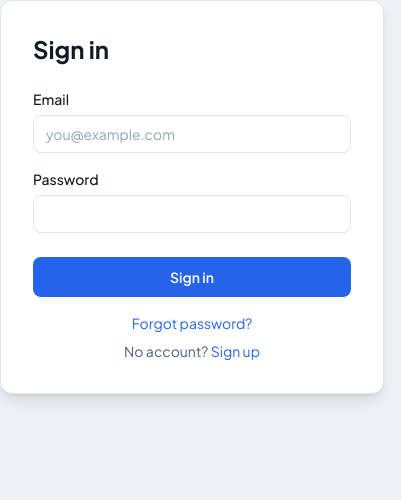
it: LoginPage — F-14-08: ACCOUNT_LOCKED error › shows "Account locked" for ACCOUNT_LOCKED detail
The width and height of the screenshot is (401, 500).
Type "a@b.com" into the field labelled "Email" at [192, 134], box left=33, top=115, right=351, bottom=153
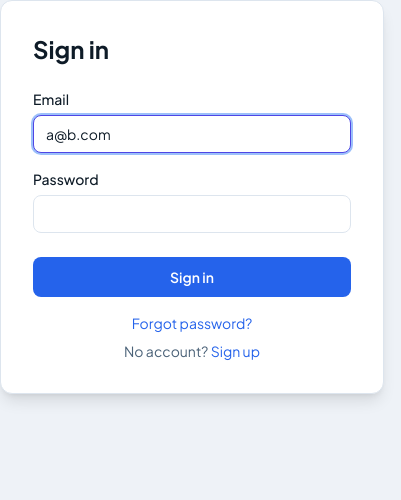
Type "pw" into the password field labelled "Password" at [192, 214], box left=33, top=195, right=351, bottom=233
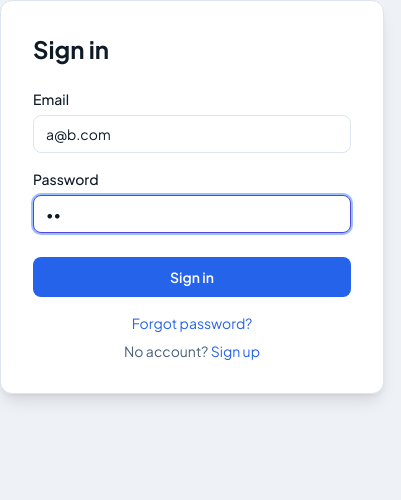
Click the button "Sign in" at [192, 277], box left=33, top=257, right=351, bottom=297
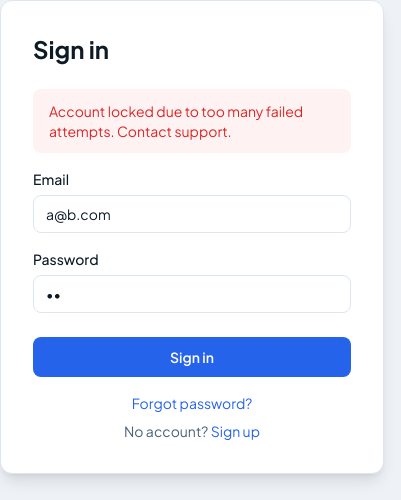
Check: the message shows "Account locked", box left=49, top=102, right=303, bottom=140
